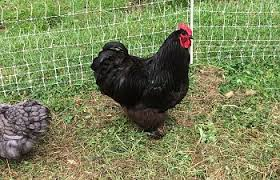chicken: (82, 13, 205, 153)
